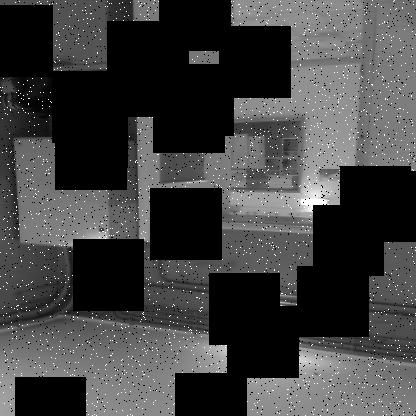Porte: (129, 1, 381, 245)
